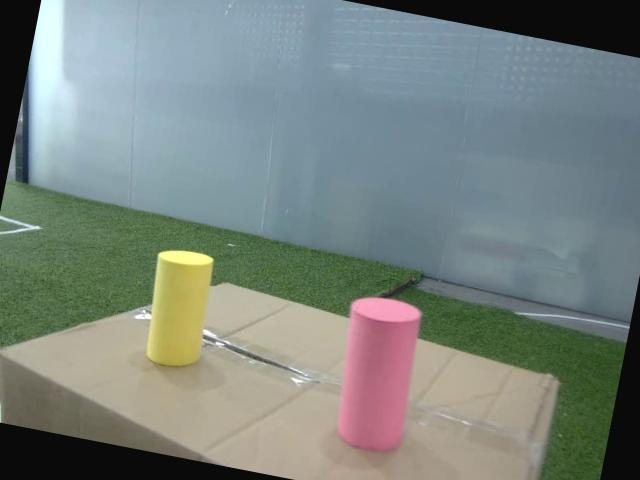red_cylinder: (322, 288, 428, 460)
yellow_cylinder: (136, 245, 222, 375)
